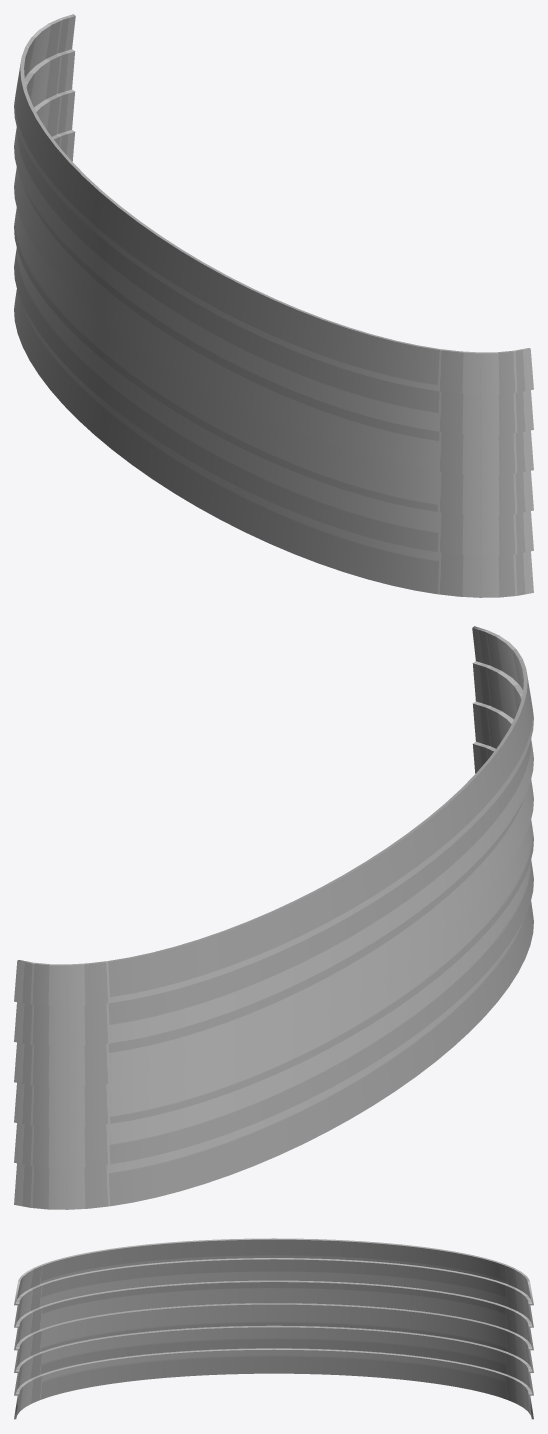
The model's file is Lobby Counter Shutter.fbx.
3 views of the same model, one above another, from view 1: azimuth 30°, elevation 25°; view 2: azimuth 150°, elevation 25°; view 3: azimuth 270°, elevation 25° (orthographic). The views are drawn at different scales.
Visible parts, largest first — view 1: Lobby Counter Shutter; view 2: Lobby Counter Shutter; view 3: Lobby Counter Shutter.
Boxes of the visible parts, bbox=[...] form: Lobby Counter Shutter: bbox=[14, 14, 533, 597]; Lobby Counter Shutter: bbox=[14, 626, 533, 1209]; Lobby Counter Shutter: bbox=[14, 1238, 533, 1419].
Bounding box in the file's own units: 518 × 701 × 2434.
